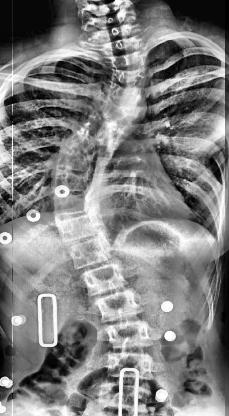Vertebrae: (39, 192, 99, 223), (100, 352, 160, 382), (51, 214, 107, 245), (69, 118, 135, 144), (93, 290, 145, 320), (78, 266, 130, 296), (87, 100, 146, 126), (100, 322, 154, 350), (63, 240, 114, 269), (64, 130, 118, 156), (48, 148, 98, 174), (98, 47, 150, 72), (44, 170, 92, 194), (100, 86, 146, 108), (108, 67, 154, 89), (95, 38, 143, 53)
